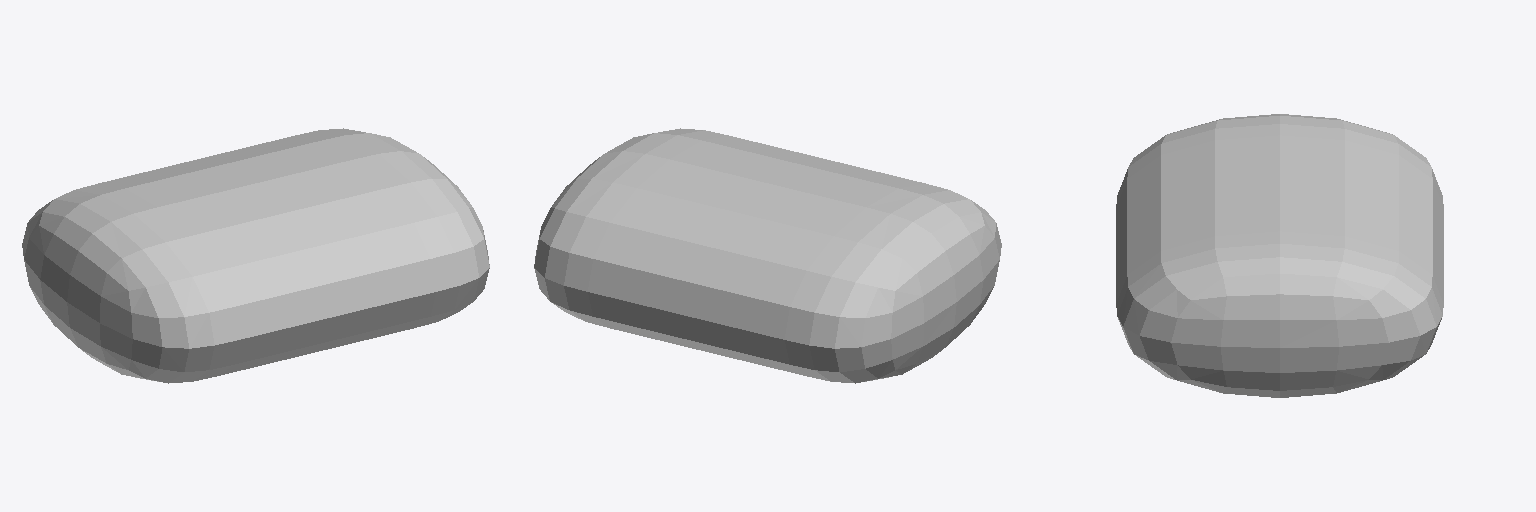
File: pillow2.obj
3 views of the same model, side by side, from view 1: azimuth 30°, elevation 25°; view 2: azimuth 150°, elevation 25°; view 3: azimuth 270°, elevation 25° (orthographic).
Visible parts, largest first — view 1: Cube.035; view 2: Cube.035; view 3: Cube.035.
Part boxes in pixels (x1,y1,x2,y2): Cube.035: (22,128,489,383); Cube.035: (534,128,1001,383); Cube.035: (1116,114,1443,397).
Bounding box in the file's own units: 0.4619 × 0.1697 × 0.3469.